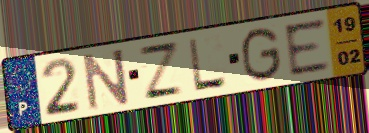2: (39, 56, 82, 118)
E: (281, 16, 334, 79)
G: (240, 25, 284, 84)
L: (186, 36, 230, 93)
N: (80, 46, 132, 113)
Z: (136, 40, 186, 102)
